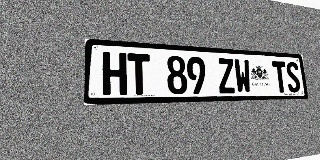8: (166, 55, 188, 94)
9: (186, 56, 207, 94)
H: (102, 52, 127, 95)
S: (285, 62, 301, 92)
T: (127, 53, 151, 95), (272, 61, 288, 93)
W: (234, 59, 252, 93)
Z: (217, 58, 236, 94)
